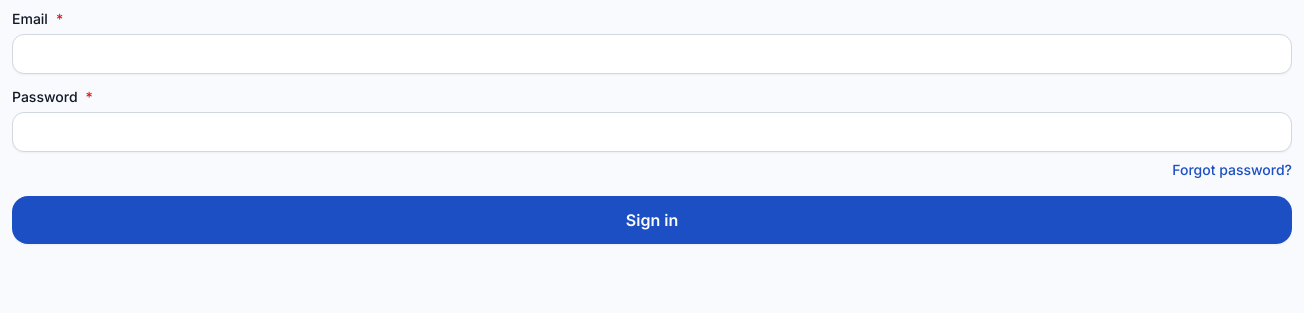
SignInForm › shows the server's generic error without revealing which field was wrong
Type "someone@example.com" into the field labelled "Email *" at (652, 54), box x1=12 y1=34 x2=1292 y2=74
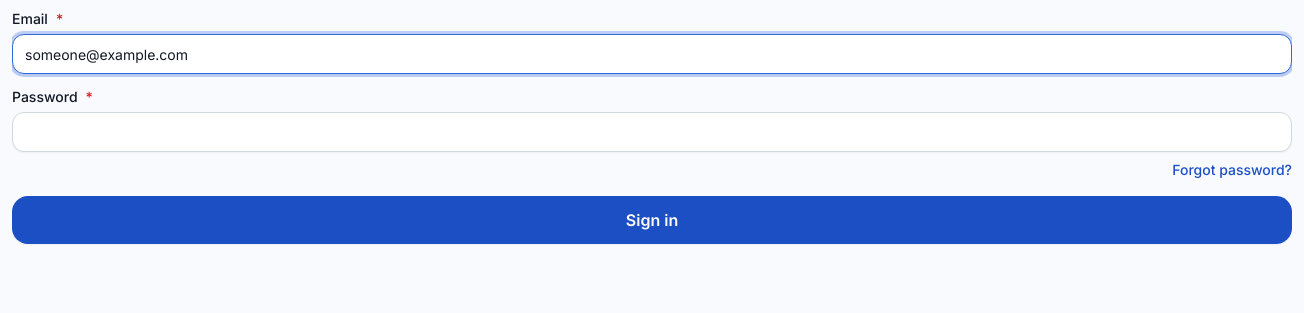
Type "wrong-password" into the password field labelled "Password *" at (652, 132), box x1=12 y1=112 x2=1292 y2=152
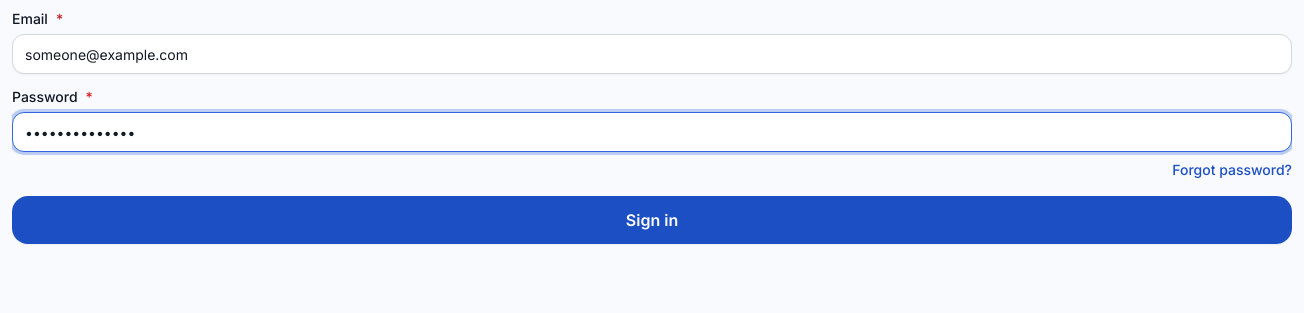
Click the button "Sign in" at (652, 220), box x1=12 y1=196 x2=1292 y2=244
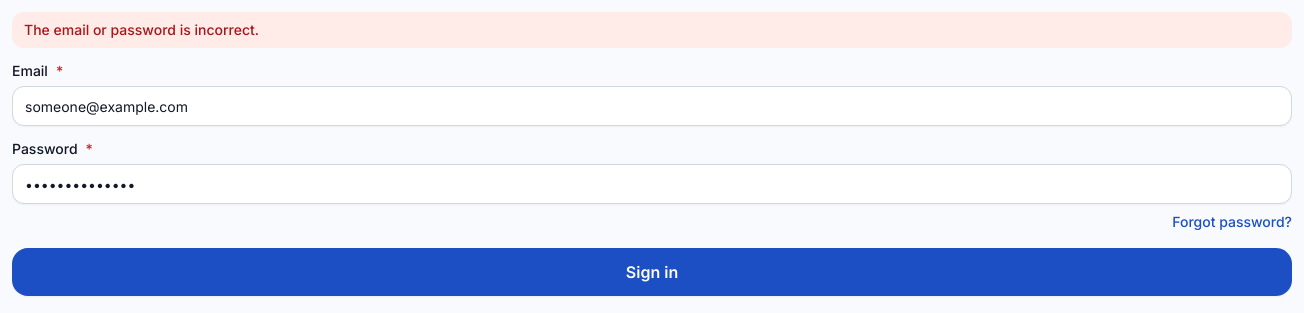
Now the message reads "The email or password is incorrect.", box x1=24 y1=21 x2=259 y2=38
